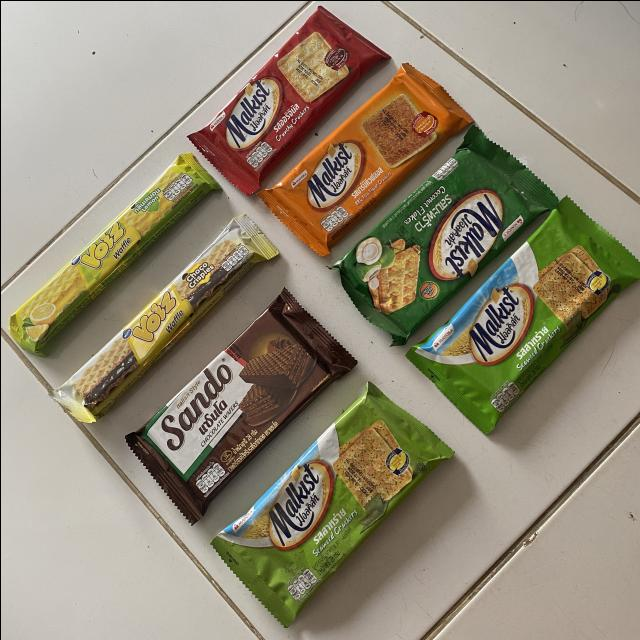plastik: (211, 382, 452, 626), (406, 197, 640, 433), (125, 288, 355, 523), (332, 125, 557, 344), (53, 214, 277, 421), (9, 152, 220, 354), (258, 62, 471, 254), (187, 5, 388, 193)
